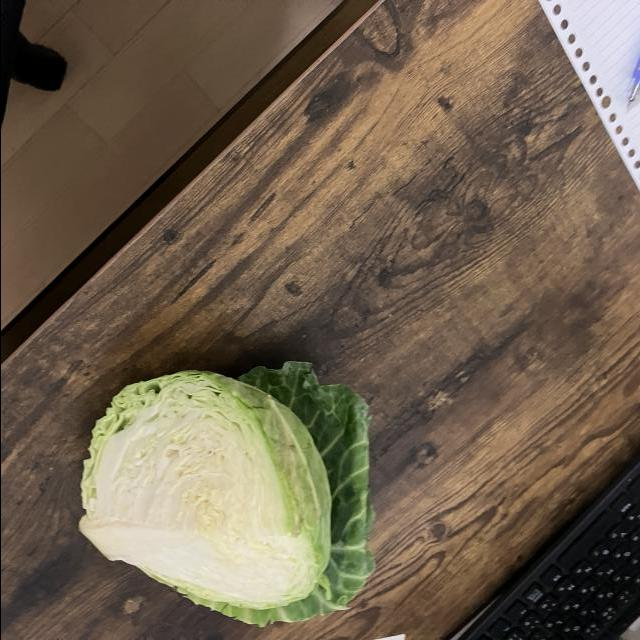cabbage: (76, 359, 376, 631)
